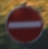No entry: (6, 5, 43, 44)
